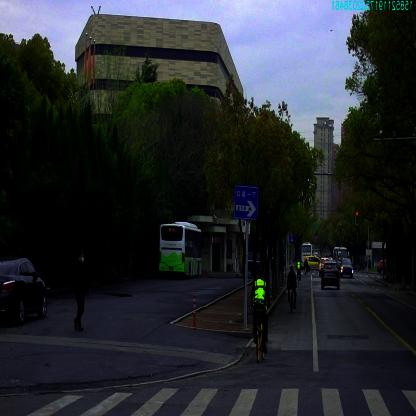traffic-light: (355, 209, 358, 224)
